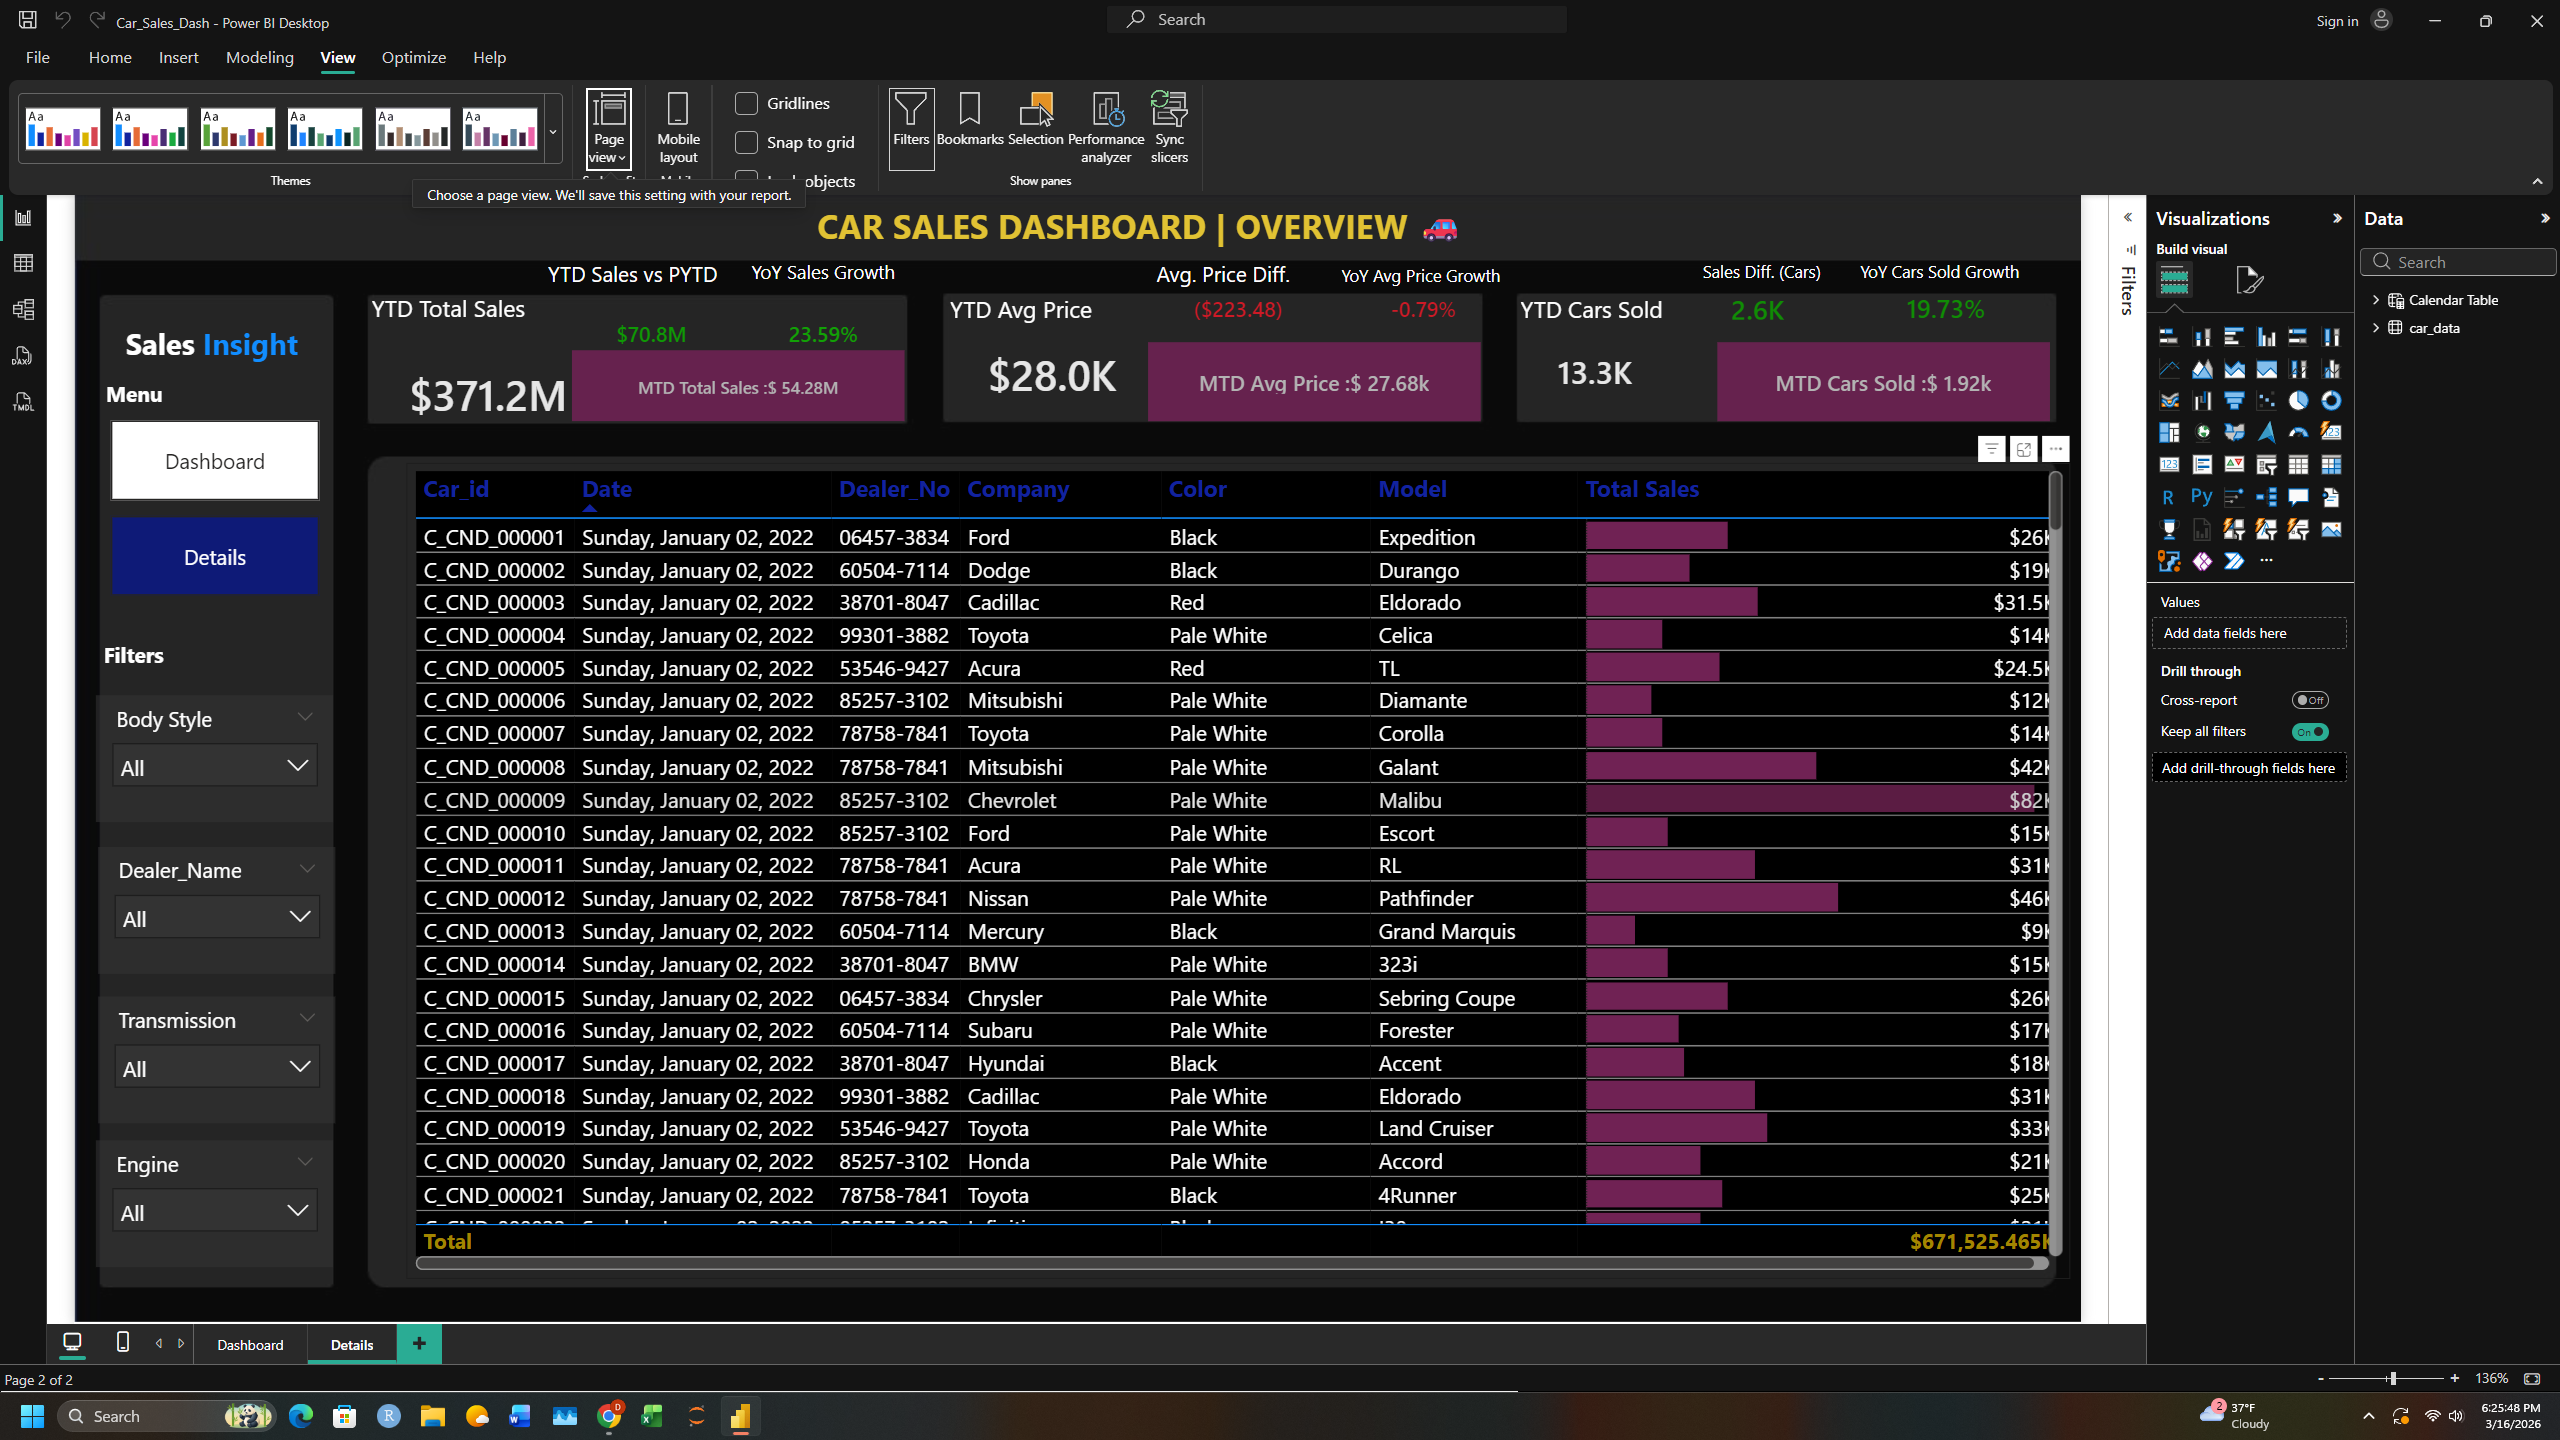

The dashboard page shown, as its layout file describes it:
{"tool":"powerbi","page":{"name":"Details","canvas":[1280,720],"ordinal":1},"visuals":[{"type":"cardVisual","title":"YTD Total Sales","fields":{"Data":["car_data.YTD Total Sales"]},"box":[185,62,161,109],"z":0},{"type":"cardVisual","fields":{"Data":["car_data.Sales Difference"]},"box":[317,61,110,52],"z":1000},{"type":"cardVisual","fields":{"Data":["car_data.MTD KPI"]},"box":[318,99,212,45],"z":2000},{"type":"cardVisual","fields":{"Data":["car_data.YoY Sales Growth"]},"box":[427,62,110,49],"z":3000},{"type":"cardVisual","title":"YTD Avg Price ","fields":{"Data":["car_data.YTD Avg Price"]},"box":[554,63,149,81],"z":4000},{"type":"cardVisual","fields":{"Data":["car_data.Avg Price Diff"]},"box":[682,43,121,56],"z":5000},{"type":"cardVisual","fields":{"Data":["car_data.YoY Avg Price Growth"]},"box":[803,43,115,56],"z":6000},{"type":"cardVisual","fields":{"Data":["car_data.MTD Avg Price KPI"]},"box":[685,94,212,50],"z":7000},{"type":"textbox","box":[427,34,127,29],"z":8000},{"type":"cardVisual","title":"YTD Cars Sold","fields":{"Data":["car_data.YTD Cars Sold"]},"box":[918,63,106,78],"z":9000},{"type":"cardVisual","fields":{"Data":["car_data.Cars Sold Difference"]},"box":[1024,45,100,52],"z":10000},{"type":"textbox","box":[1034,15,100,48],"z":11000},{"type":"textbox","box":[685,35,127,29],"z":12000},{"type":"textbox","box":[803,35,116,29],"z":13000},{"type":"textbox","box":[297,35,127,29],"z":14000},{"type":"cardVisual","fields":{"Data":["car_data.YoY Cars Sold Growth"]},"box":[1134,45,120,52],"z":15000},{"type":"textbox","box":[1134,15,126,49],"z":16000},{"type":"cardVisual","fields":{"Data":["car_data.MTD Cars Sold KPI"]},"box":[1048,94,212,50],"z":17000},{"type":"textbox","box":[438.4,0,488.9,74.7],"z":23000},{"type":"slicer","fields":{"Values":["car_data.Body Style"]},"box":[14.1,319.2,151.5,80.8],"z":24000},{"type":"slicer","fields":{"Values":["car_data.Dealer_Name"]},"box":[15.2,416.2,151.5,80.8],"z":25000},{"type":"slicer","fields":{"Values":["car_data.Transmission"]},"box":[15.2,511.1,151.5,80.8],"z":26000},{"type":"slicer","fields":{"Values":["car_data.Engine"]},"box":[14.1,603,151.5,80.8],"z":27000},{"type":"tableEx","fields":{"Values":["car_data.Car_id","car_data.Date","car_data.Dealer_No ","car_data.Company","car_data.Color","car_data.Model","Sum(car_data.Price ($))"]},"box":[212.1,170.7,1061.6,520.2],"z":27001},{"type":"textbox","box":[26.3,76.8,128.3,41.4],"z":27002},{"type":"textbox","box":[15.2,112.1,86.9,40.4],"z":27003},{"type":"pageNavigator","box":[23.2,143.4,133.3,112.1],"z":27004},{"type":"textbox","box":[14.1,278.8,86.9,40.4],"z":27005}]}

Visuals, with their boxes on the page's 1280x720 design canvas (x1, y1, x2, y2). These are canvas units, not pixel positions in the 2560x1440 screenshot, which may show the page scaled, cropped or inside an application window:
"YTD Total Sales" cardVisual: (185, 62, 346, 171)
cardVisual - car_data.Sales Difference: (317, 61, 427, 113)
cardVisual - car_data.MTD KPI: (318, 99, 530, 144)
cardVisual - car_data.YoY Sales Growth: (427, 62, 537, 111)
"YTD Avg Price " cardVisual: (554, 63, 703, 144)
cardVisual - car_data.Avg Price Diff: (682, 43, 803, 99)
cardVisual - car_data.YoY Avg Price Growth: (803, 43, 918, 99)
cardVisual - car_data.MTD Avg Price KPI: (685, 94, 897, 144)
textbox: (427, 34, 554, 63)
"YTD Cars Sold" cardVisual: (918, 63, 1024, 141)
cardVisual - car_data.Cars Sold Difference: (1024, 45, 1124, 97)
textbox: (1034, 15, 1134, 63)
textbox: (685, 35, 812, 64)
textbox: (803, 35, 919, 64)
textbox: (297, 35, 424, 64)
cardVisual - car_data.YoY Cars Sold Growth: (1134, 45, 1254, 97)
textbox: (1134, 15, 1260, 64)
cardVisual - car_data.MTD Cars Sold KPI: (1048, 94, 1260, 144)
textbox: (438, 0, 927, 75)
slicer - car_data.Body Style: (14, 319, 166, 400)
slicer - car_data.Dealer_Name: (15, 416, 167, 497)
slicer - car_data.Transmission: (15, 511, 167, 592)
slicer - car_data.Engine: (14, 603, 166, 684)
tableEx - car_data.Car_id x car_data.Date: (212, 171, 1274, 691)
textbox: (26, 77, 155, 118)
textbox: (15, 112, 102, 152)
pageNavigator: (23, 143, 156, 256)
textbox: (14, 279, 101, 319)
